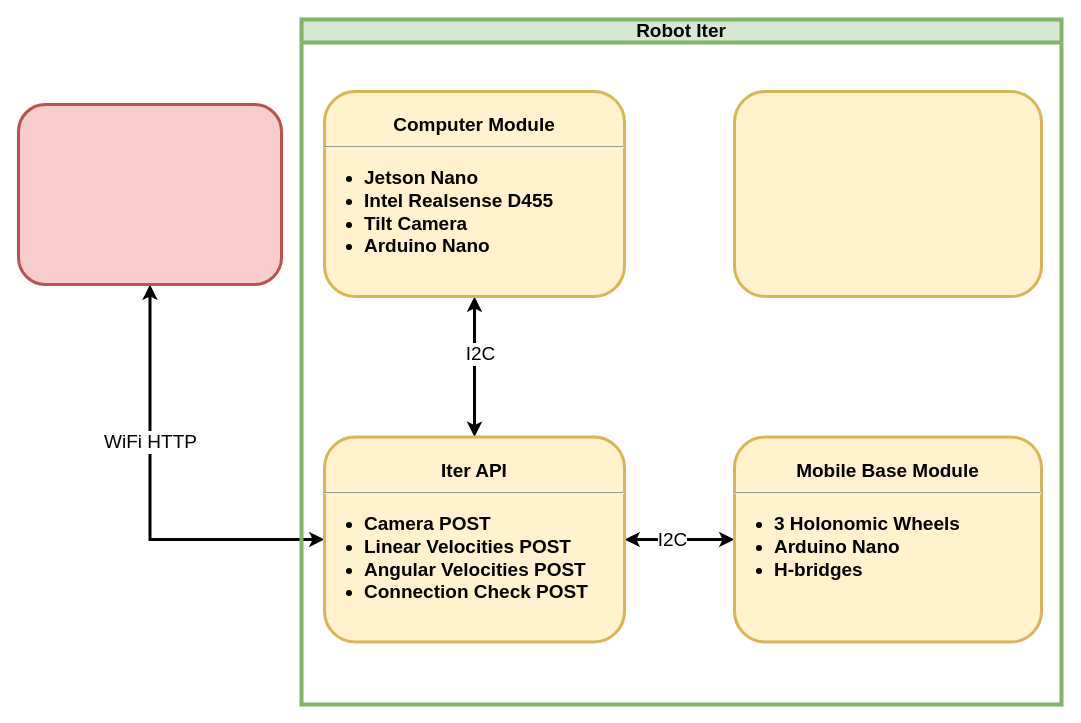
This 1081x723 diagram has some shape labels left out. The shapes that lost their labels are listed below. From the top down, each one's centre as x and y in pixels, then its label:
the point at 149,194: Oculus Quest 2 Controllers. VR View. Unreal Engine 5 App
the point at 887,194: Energy Module Battery Management System 8.4V 6800 mAh
